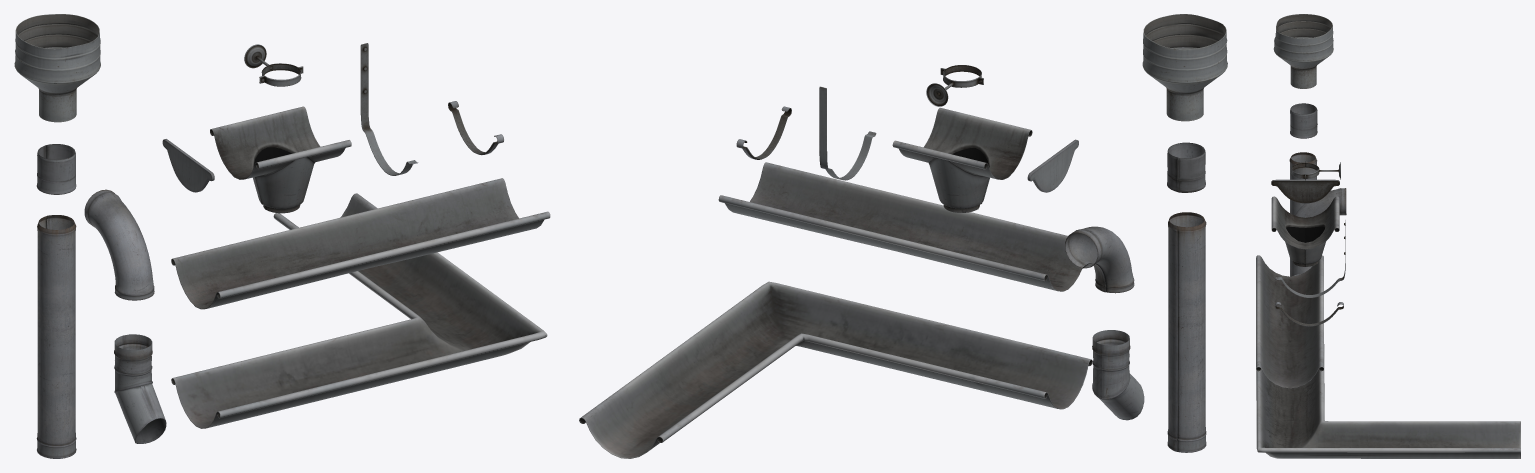
Rendered from modular_metal_gutter_4k.fbx.
The picture shows the model from 3 angles, left to right: view 1: azimuth 30°, elevation 25°; view 2: azimuth 150°, elevation 25°; view 3: azimuth 270°, elevation 25°; orthographic projection. The views are drawn at different scales.
Parts seen in each view (by area): view 1: modular_metal_gutter_corner, modular_metal_gutter, modular_metal_gutter_section, modular_metal_gutter_shower_receiver, modular_metal_gutter_funnel, modular_metal_gutter_bend, modular_metal_gutter_outlet, modular_metal_gutter_coupler, modular_metal_gutter_gutter_bracing, modular_metal_gutter_gutter_plug, modular_metal_gutter_bracing, modular_metal_gutter_gutter_coupler; view 2: modular_metal_gutter_corner, modular_metal_gutter, modular_metal_gutter_section, modular_metal_gutter_shower_receiver, modular_metal_gutter_funnel, modular_metal_gutter_outlet, modular_metal_gutter_bend, modular_metal_gutter_coupler, modular_metal_gutter_gutter_plug, modular_metal_gutter_gutter_bracing, modular_metal_gutter_bracing; view 3: modular_metal_gutter_corner, modular_metal_gutter, modular_metal_gutter_funnel, modular_metal_gutter_shower_receiver, modular_metal_gutter_gutter_plug, modular_metal_gutter_coupler, modular_metal_gutter_section, modular_metal_gutter_bend, modular_metal_gutter_bracing, modular_metal_gutter_gutter_bracing, modular_metal_gutter_gutter_coupler.
Boxes of the visible parts, x1,y1,x2,y2 form: modular_metal_gutter_corner: (171,193,547,428); modular_metal_gutter: (171,178,550,309); modular_metal_gutter_section: (36,215,76,458); modular_metal_gutter_shower_receiver: (210,106,351,213); modular_metal_gutter_funnel: (14,14,100,122); modular_metal_gutter_bend: (84,189,154,300); modular_metal_gutter_outlet: (114,334,166,443); modular_metal_gutter_coupler: (36,144,76,194); modular_metal_gutter_gutter_bracing: (360,43,418,175); modular_metal_gutter_gutter_plug: (162,139,214,192); modular_metal_gutter_bracing: (244,44,303,86); modular_metal_gutter_gutter_coupler: (448,101,503,155); modular_metal_gutter_corner: (579,281,1092,458); modular_metal_gutter: (718,162,1081,291); modular_metal_gutter_section: (1167,212,1206,452); modular_metal_gutter_shower_receiver: (892,107,1032,212); modular_metal_gutter_funnel: (1142,14,1227,121); modular_metal_gutter_outlet: (1092,330,1144,420); modular_metal_gutter_bend: (1065,226,1134,293); modular_metal_gutter_coupler: (1167,142,1205,192); modular_metal_gutter_gutter_plug: (1027,139,1078,192); modular_metal_gutter_gutter_bracing: (819,86,876,180); modular_metal_gutter_bracing: (926,65,983,106); modular_metal_gutter_corner: (1256,344,1520,458); modular_metal_gutter: (1256,255,1323,388); modular_metal_gutter_funnel: (1273,14,1333,88); modular_metal_gutter_shower_receiver: (1271,196,1339,266); modular_metal_gutter_gutter_plug: (1271,179,1339,203); modular_metal_gutter_coupler: (1290,103,1317,138); modular_metal_gutter_section: (1289,152,1317,276); modular_metal_gutter_bend: (1295,188,1346,217); modular_metal_gutter_bracing: (1291,161,1340,180); modular_metal_gutter_gutter_bracing: (1275,220,1345,297); modular_metal_gutter_gutter_coupler: (1275,302,1343,326).
Size of the model in its own units: 227 by 184 by 151.
Materials: 1 (1 with a texture image).
